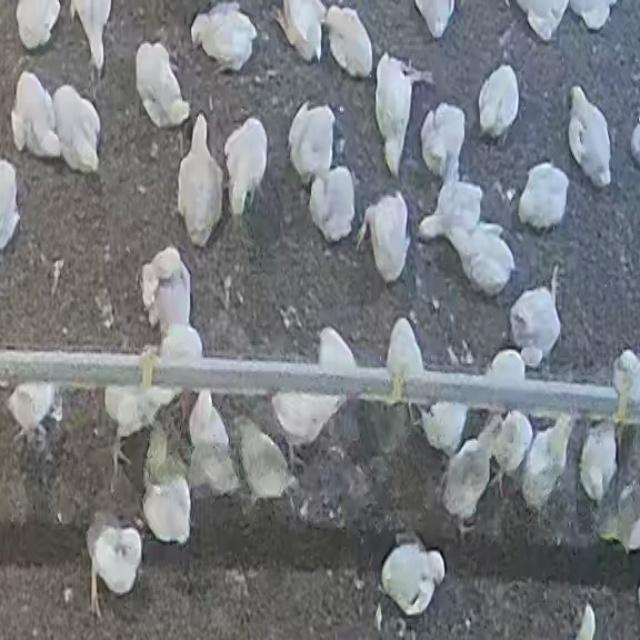chicken: (274, 324, 350, 453), (177, 112, 224, 245), (186, 392, 238, 500), (380, 536, 447, 618), (85, 512, 139, 610), (356, 191, 410, 283), (236, 420, 294, 504), (520, 416, 571, 510), (567, 86, 614, 186), (374, 54, 413, 174), (136, 41, 189, 128), (223, 117, 269, 217), (141, 247, 192, 337), (189, 3, 254, 73), (10, 72, 61, 161), (52, 83, 103, 171), (455, 224, 517, 296), (442, 438, 492, 527), (420, 173, 482, 244), (509, 281, 560, 367), (9, 357, 59, 443), (155, 326, 203, 415), (102, 383, 166, 444), (290, 101, 337, 184), (383, 317, 426, 405), (323, 4, 373, 76), (310, 168, 358, 242), (518, 162, 570, 230), (420, 103, 464, 179), (142, 476, 191, 544), (476, 64, 519, 139), (70, 2, 114, 73), (275, 1, 327, 61), (486, 350, 526, 426), (578, 424, 616, 503), (492, 409, 532, 483), (418, 402, 467, 457), (610, 349, 640, 427), (15, 0, 60, 51), (316, 325, 358, 379), (610, 484, 640, 550)
